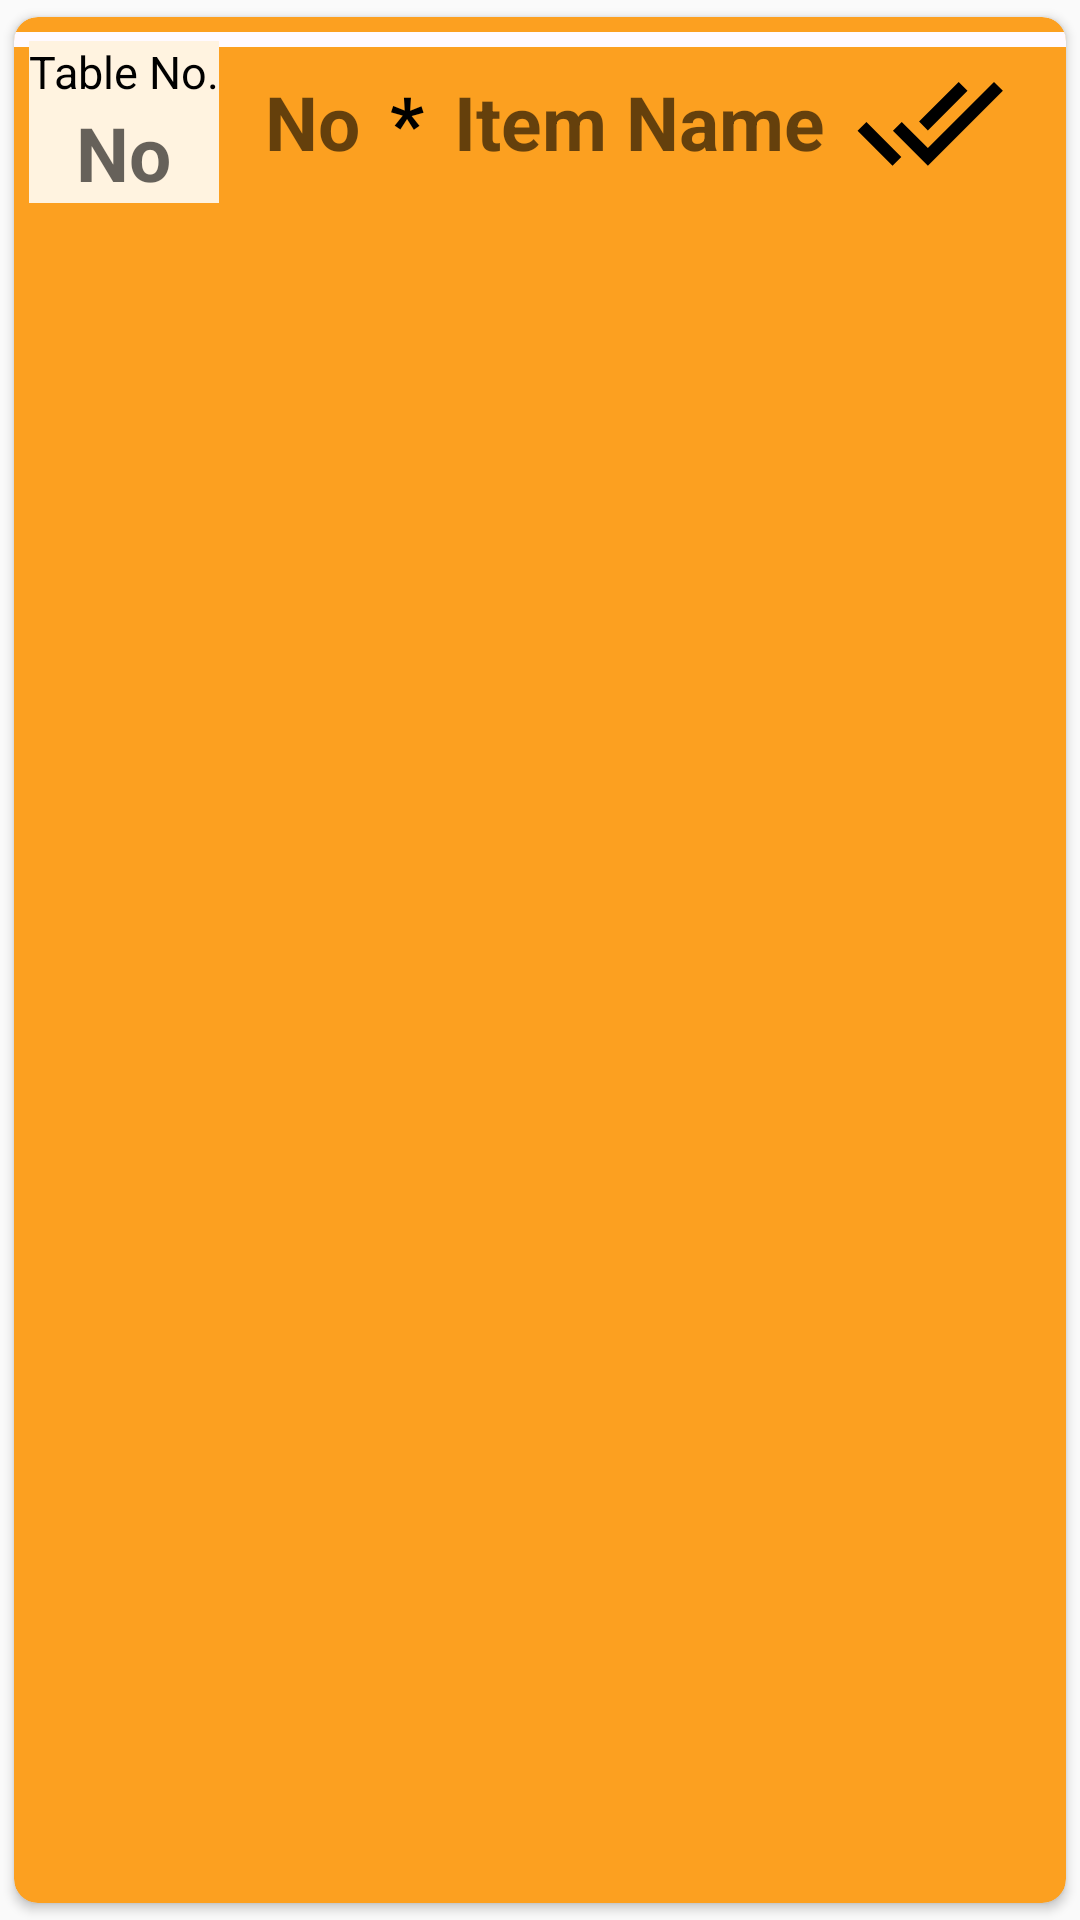

Screen size 1080 × 1920. Icon name, then its box in pixels as (x1=x1, y1=y1, x2=x2, y2=y2):
double tick: (x1=857, y1=82, x2=1003, y2=166)
